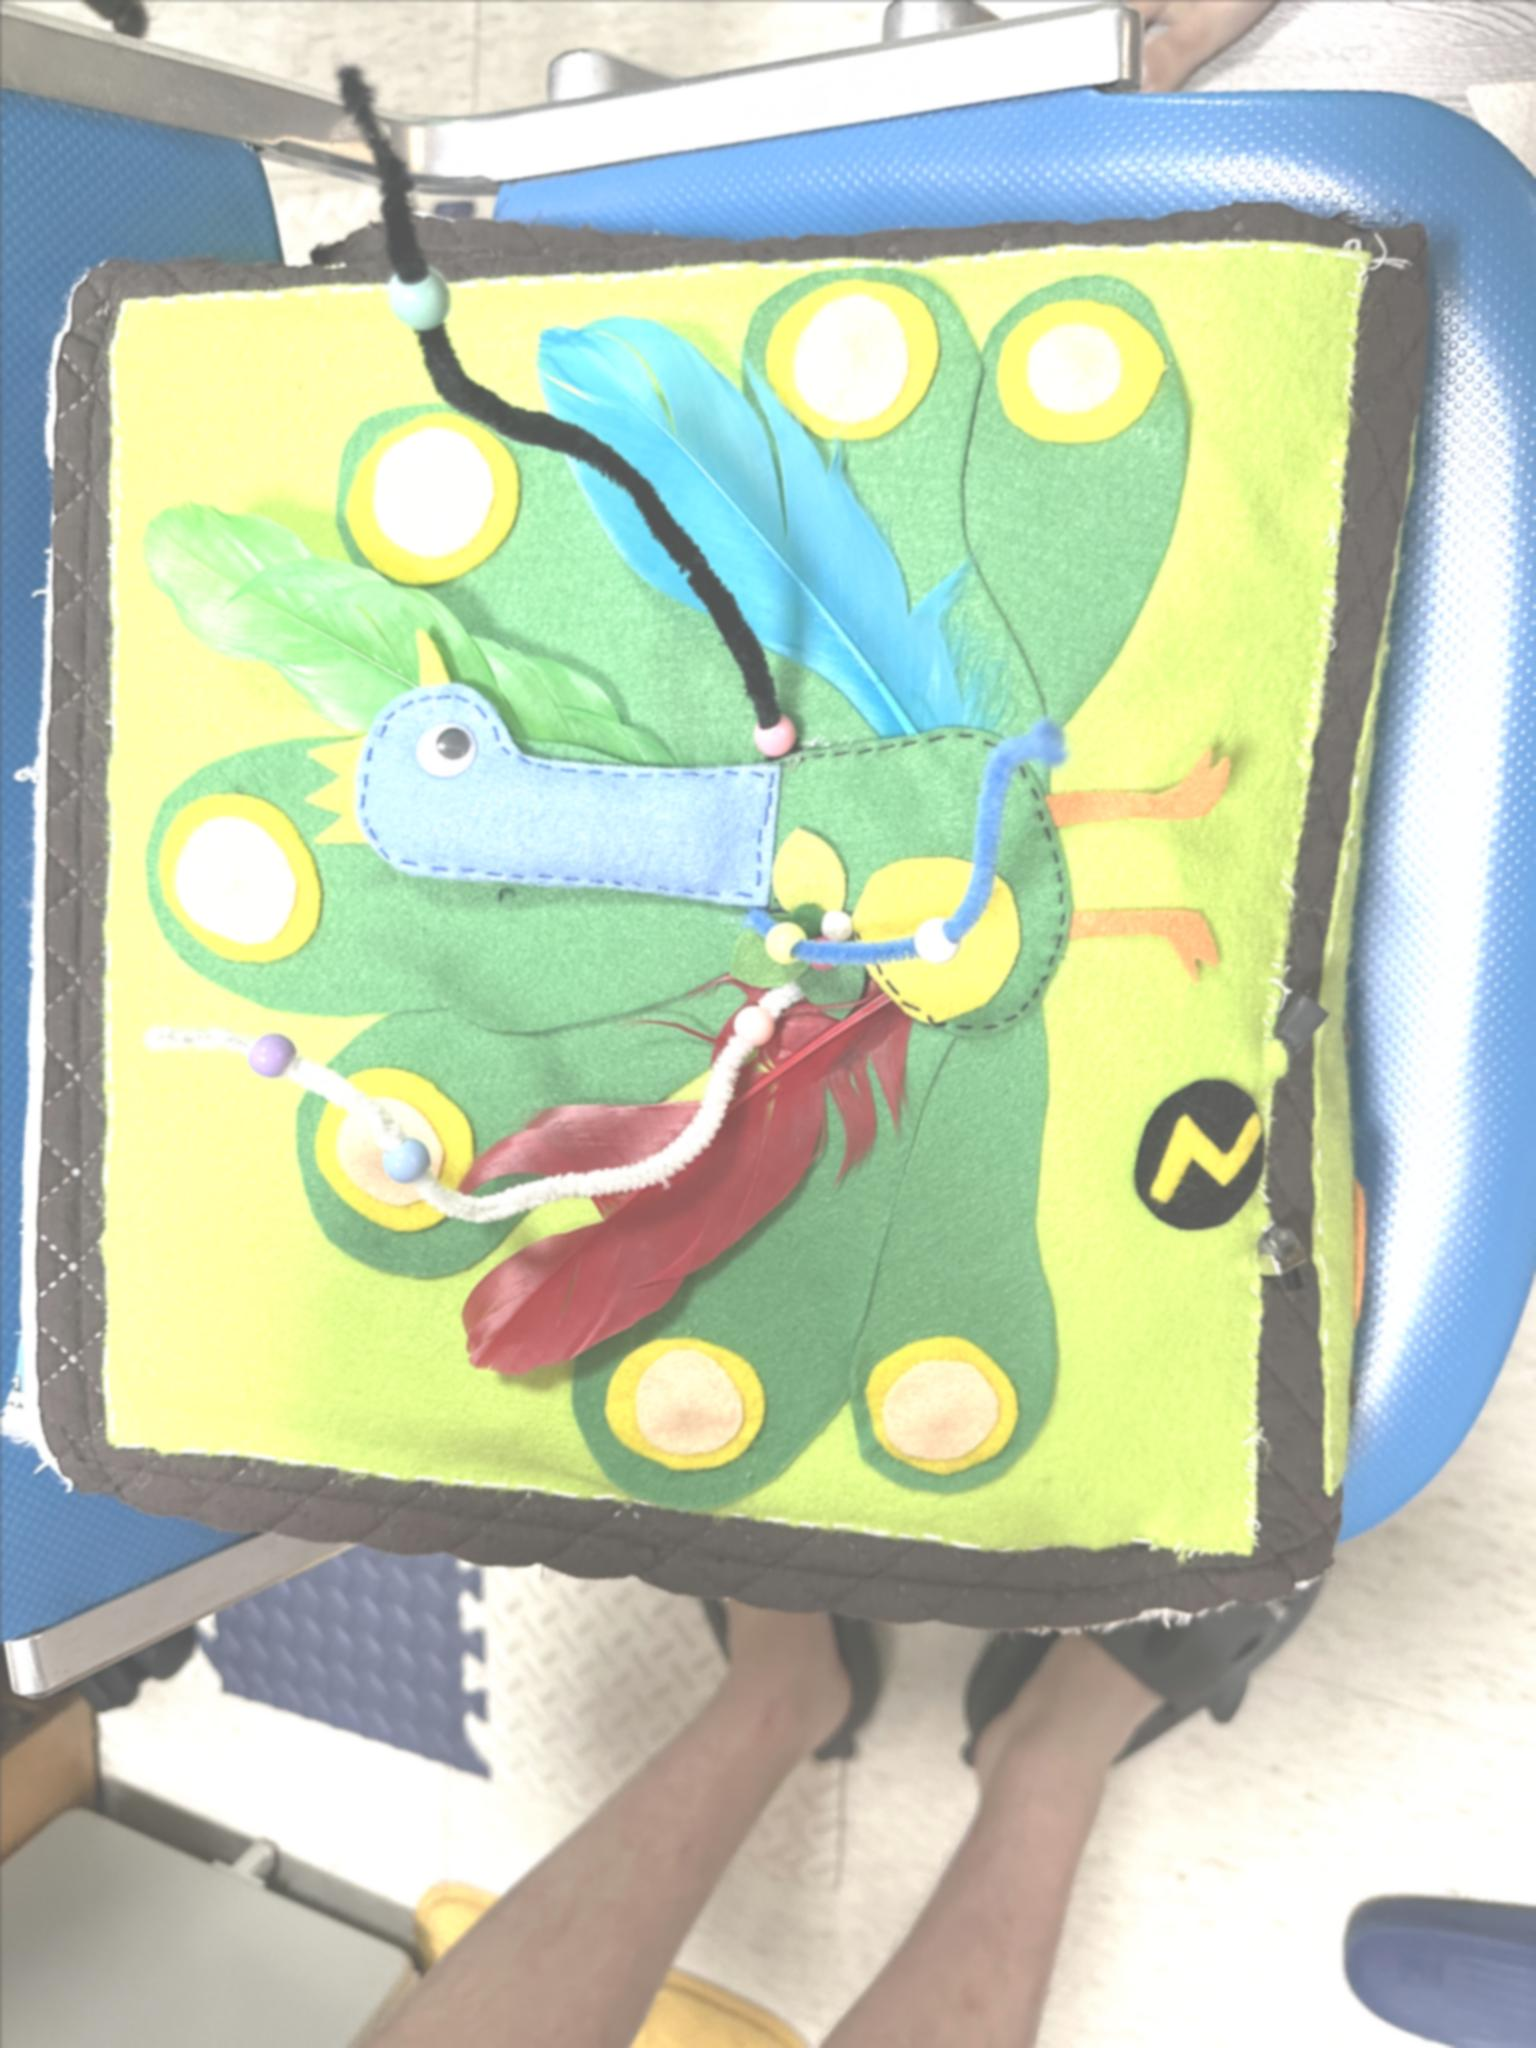bead: (742, 672, 837, 776), (386, 260, 461, 348), (239, 1009, 302, 1090), (371, 1121, 431, 1197), (750, 908, 813, 979), (902, 903, 958, 969), (729, 987, 774, 1063)
